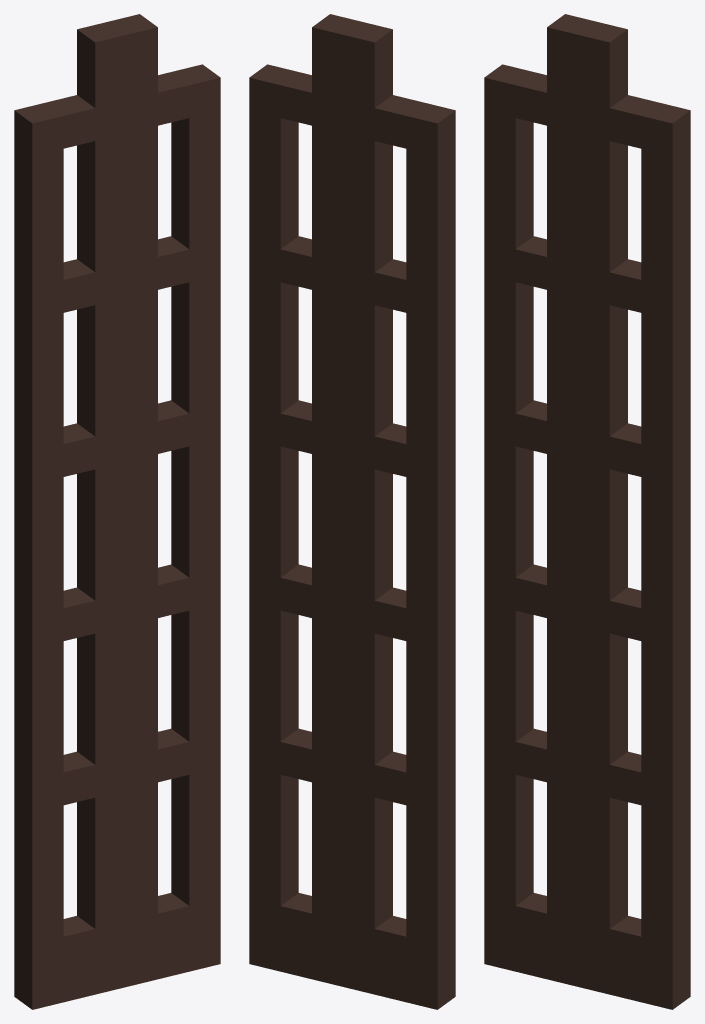
Rendered from SmallBuilding01-9.obj.
3 views of the same model, side by side, from view 1: azimuth 30°, elevation 25°; view 2: azimuth 150°, elevation 25°; view 3: azimuth 330°, elevation 25° (orthographic).
Bounding box in the file's own units: 0.6 × 2.9 × 0.1.
Materials: 1 (1 with a texture image).
